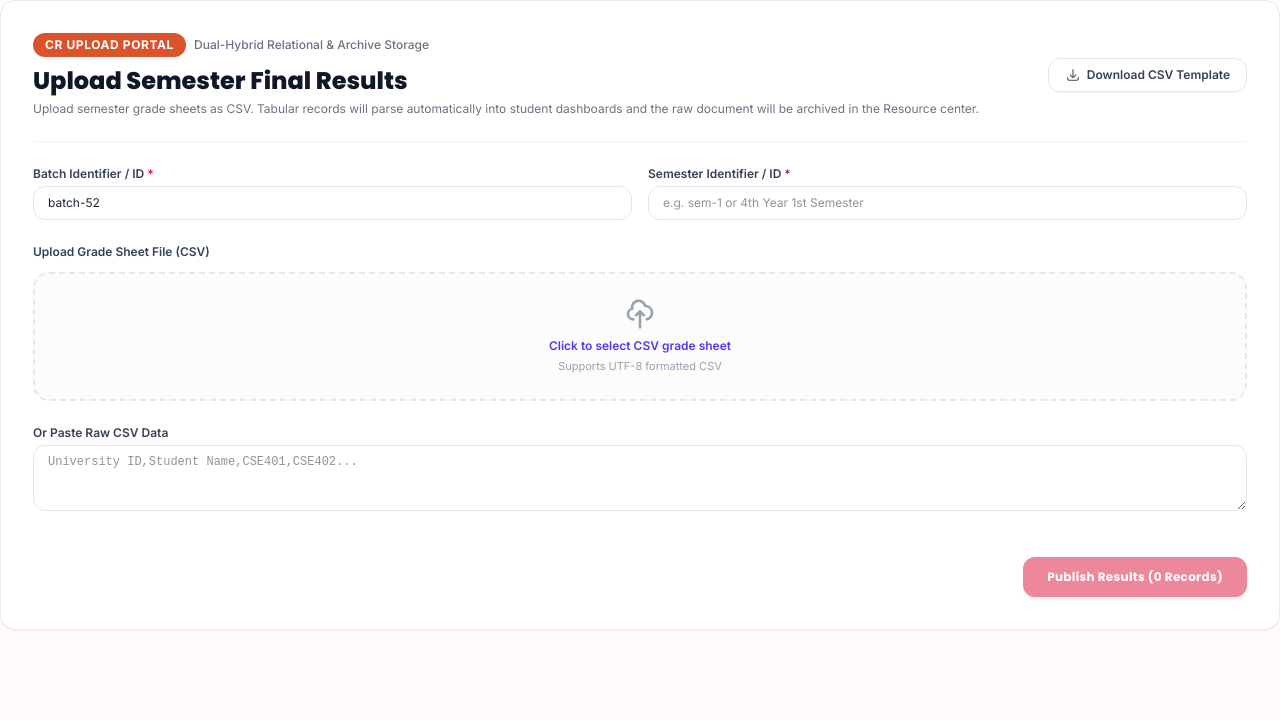
Test: ResultUploadForm Component › parses raw CSV text and displays live preview table with calculated GPAs
Type "University ID,Student Name,CSE401,CSE402 2020101,Rahim Ahmed,85,78" into the text box labelled "Or Paste Raw CSV Data" at (640, 478), box x1=33 y1=444 x2=1247 y2=510
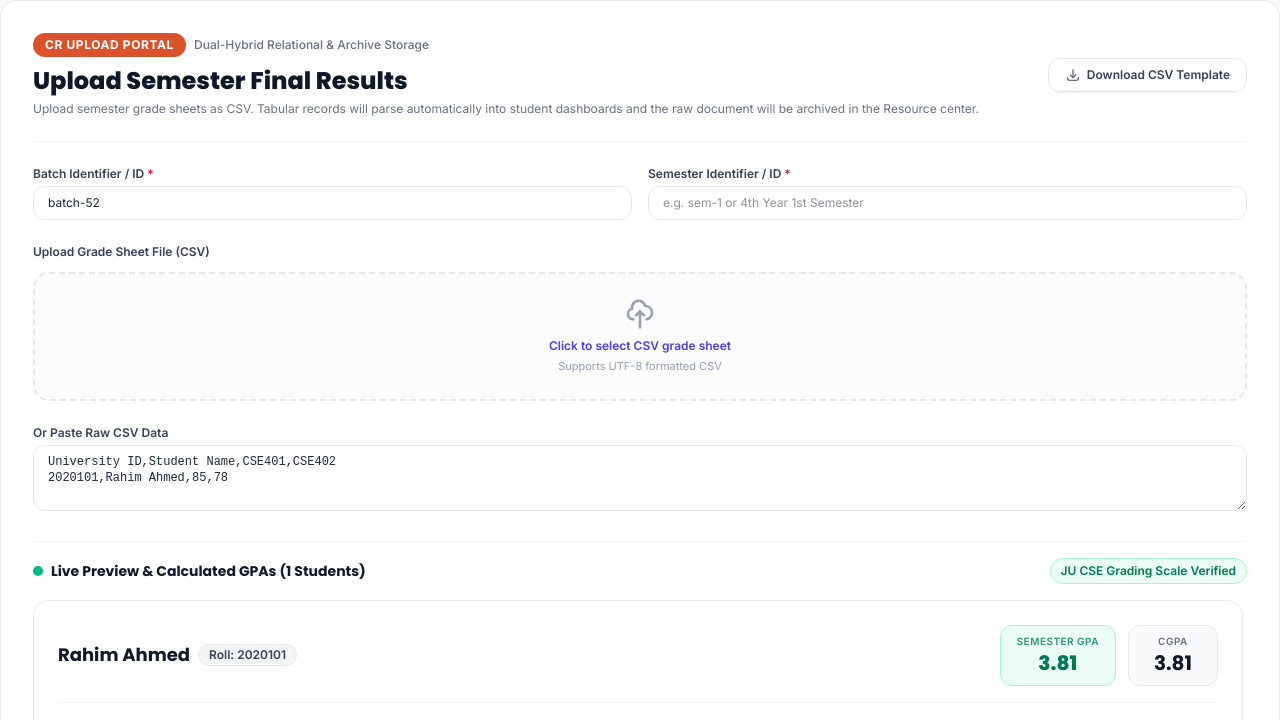
Check: the heading "Live Preview & Calculated GPAs (1 Students)" is shown, box x1=33 y1=560 x2=366 y2=580
Check: the heading "Rahim Ahmed" is shown, box x1=58 y1=641 x2=190 y2=669
Check: the text "Roll: 2020101" is shown, box x1=198 y1=644 x2=297 y2=666
